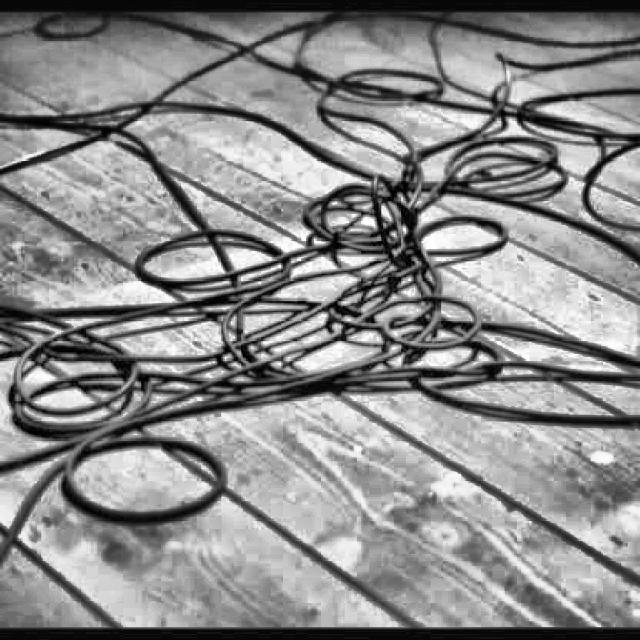Cable: (0, 17, 640, 523)
